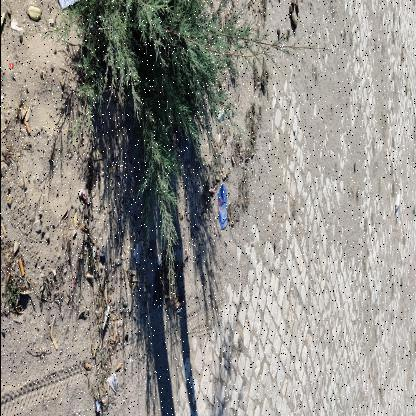metal: (217, 183, 227, 229)
